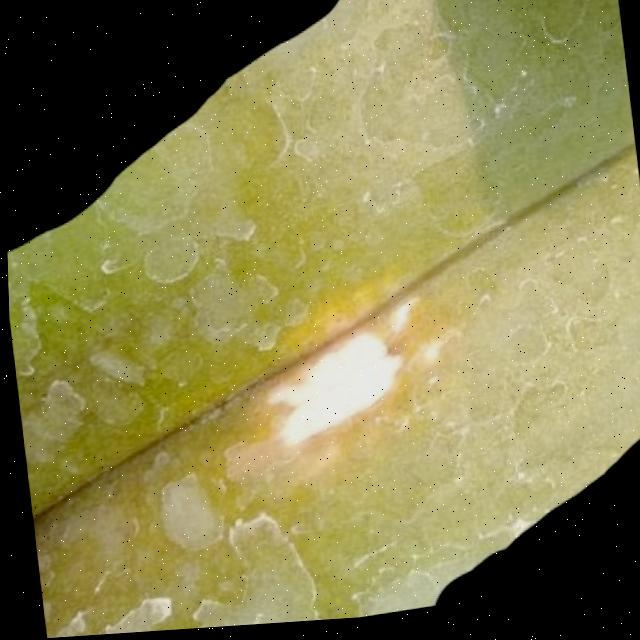mite: (1, 0, 374, 256), (429, 0, 640, 235), (407, 418, 640, 612), (130, 212, 313, 372), (469, 0, 630, 135), (15, 373, 94, 468), (150, 470, 225, 561), (183, 266, 254, 351), (527, 0, 597, 58), (136, 233, 204, 291)
